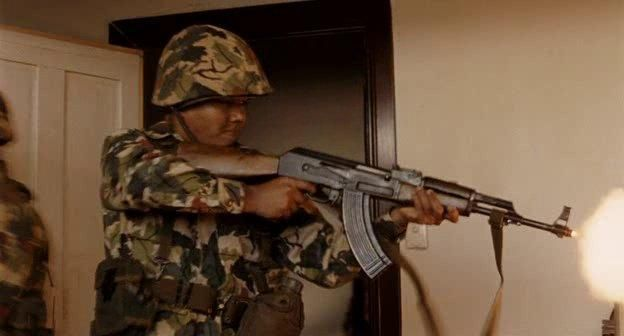gun: (168, 134, 575, 273)
uniform: (96, 110, 296, 334)
